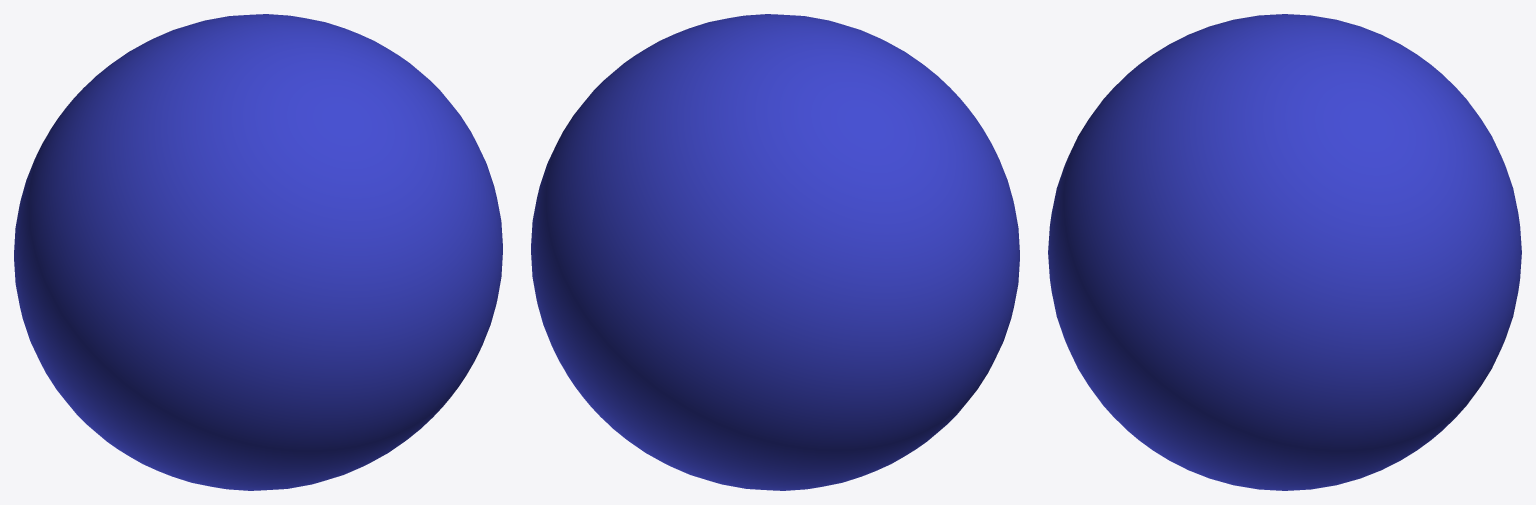
File: Круг тупой.fbx
3 renders of one model, left to right at view 1: azimuth 30°, elevation 25°; view 2: azimuth 150°, elevation 25°; view 3: azimuth 270°, elevation 25°, orthographic.
Visible parts, largest first — view 1: root; view 2: root; view 3: root.
Part boxes in pixels (x1,y1,x2,y2): root: [14, 14, 502, 490]; root: [531, 14, 1019, 490]; root: [1048, 14, 1521, 490].
Size of the model in its own units: 0.4216 by 0.4069 by 0.4069.
